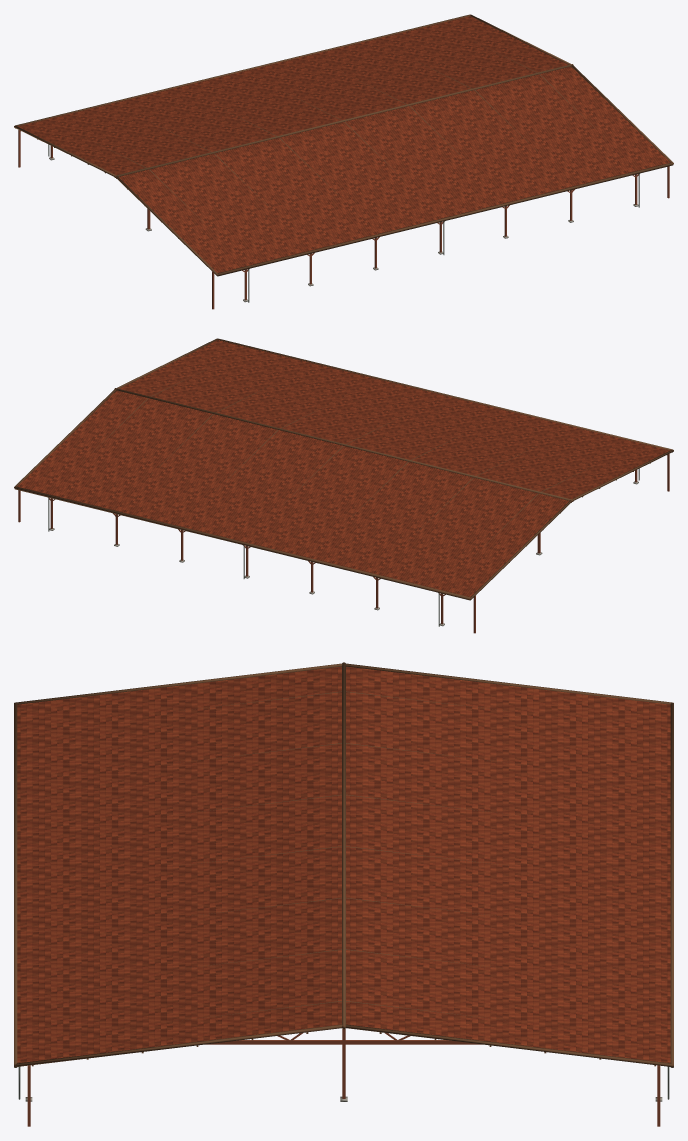
File: hawker_pavilion.glb
3 renders of one model, top to bottom at view 1: azimuth 30°, elevation 25°; view 2: azimuth 150°, elevation 25°; view 3: azimuth 270°, elevation 25°, orthographic. The views are drawn at different scales.
Parts seen in each view (by area): view 1: Hawker_TerracottaPitchedRoof, Hawker_RoofFasciaGuttersAndFootings, Hawker_ColumnsAndExposedTrusses; view 2: Hawker_TerracottaPitchedRoof, Hawker_RoofFasciaGuttersAndFootings, Hawker_ColumnsAndExposedTrusses; view 3: Hawker_TerracottaPitchedRoof, Hawker_RoofFasciaGuttersAndFootings, Hawker_ColumnsAndExposedTrusses.
Part boxes in pixels (x1,y1,x2,y2): Hawker_TerracottaPitchedRoof: [18, 16, 670, 272]; Hawker_RoofFasciaGuttersAndFootings: [14, 14, 673, 302]; Hawker_ColumnsAndExposedTrusses: [18, 42, 669, 309]; Hawker_TerracottaPitchedRoof: [17, 340, 669, 596]; Hawker_RoofFasciaGuttersAndFootings: [14, 338, 673, 626]; Hawker_ColumnsAndExposedTrusses: [18, 366, 669, 633]; Hawker_TerracottaPitchedRoof: [17, 666, 670, 1063]; Hawker_RoofFasciaGuttersAndFootings: [14, 662, 673, 1101]; Hawker_ColumnsAndExposedTrusses: [27, 691, 660, 1126].
Bounding box in the file's own units: 70.4 × 9.2 × 54.08.
19 materials, 1 textured.
